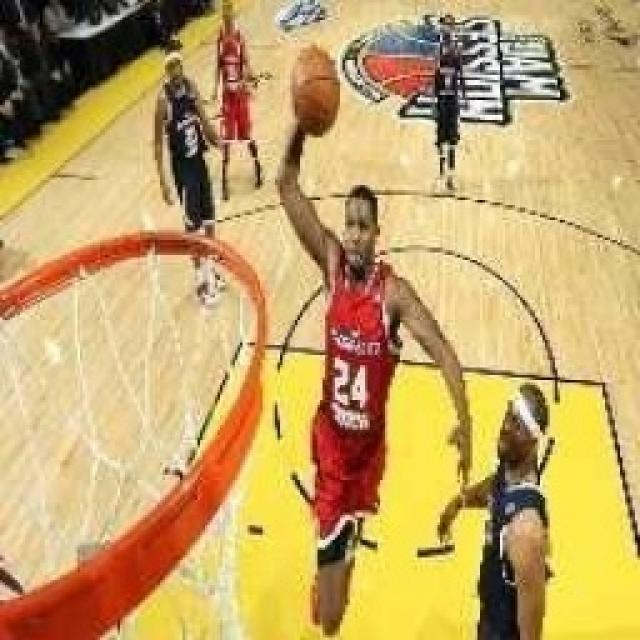rim: (284, 41, 346, 131)
